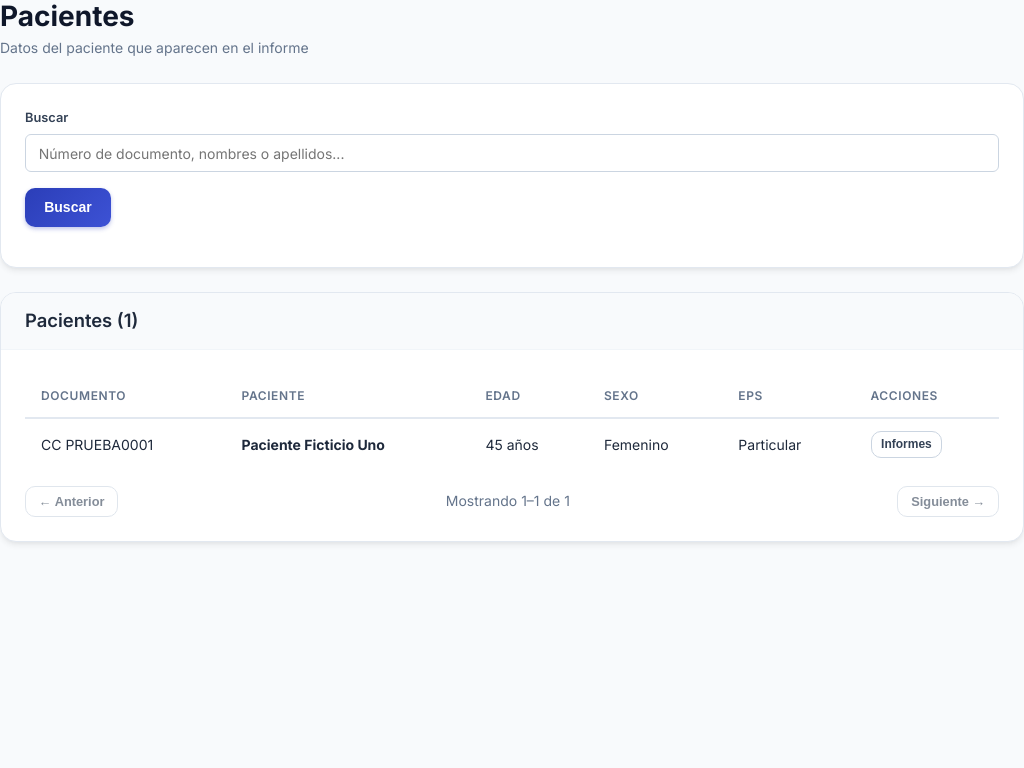
Test case: PacientesPage: historial de informes › cualquier usuario ve los informes de un paciente, con enlace a cada uno
Click the button "Informes": point(906, 445) [870, 431, 942, 458]
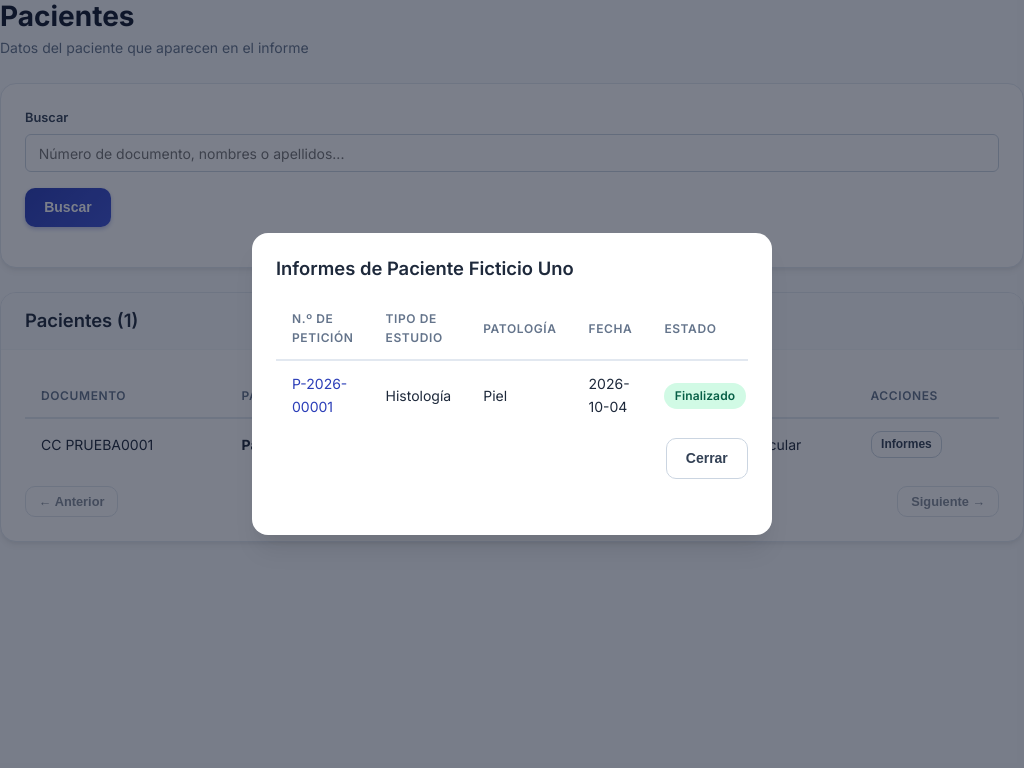
Result: the text "Histología" is shown at [370, 360, 467, 430]
Result: the text "Piel" is shown at [467, 360, 572, 430]
Result: the text "Finalizado" is shown at [664, 383, 746, 409]
